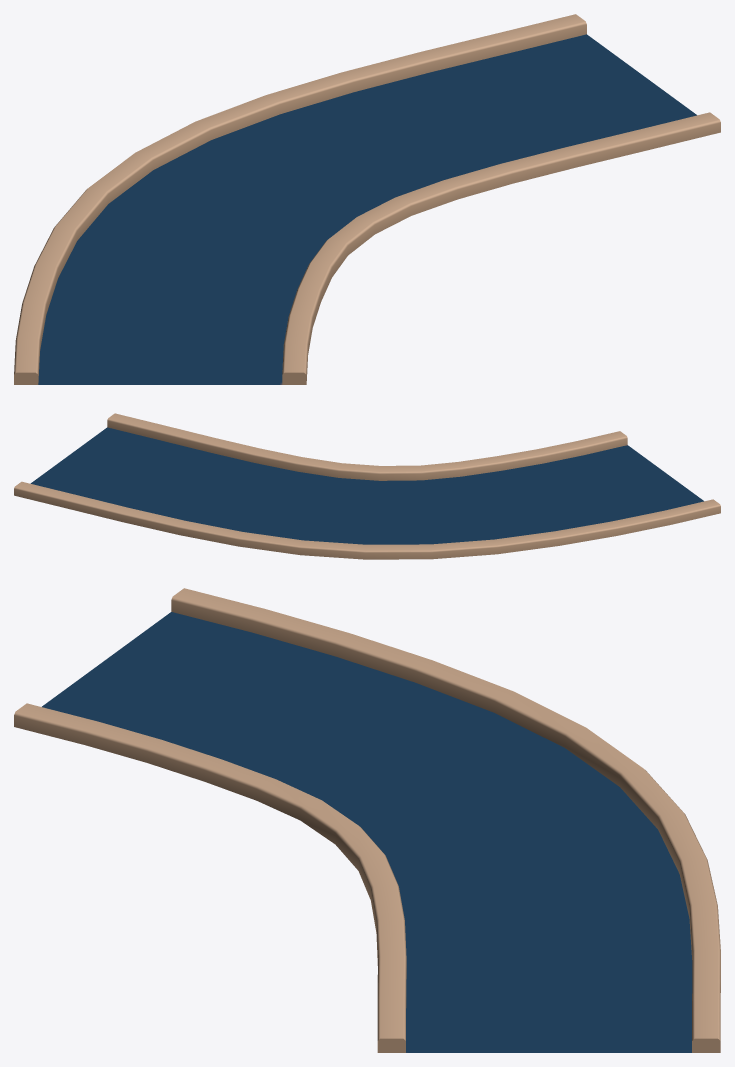
File: PokemonMonster_Landing_Road60do.fbx
3 renders of one model, top to bottom at view 1: azimuth 30°, elevation 25°; view 2: azimuth 150°, elevation 25°; view 3: azimuth 270°, elevation 25°, orthographic. The views are drawn at different scales.
Visible parts, largest first — view 1: Road_60; view 2: Road_60; view 3: Road_60.
Part boxes in pixels (<box>): Road_60: <box>14,14,720,384</box>; Road_60: <box>14,413,720,559</box>; Road_60: <box>14,588,720,1052</box>.
Size of the model in its own units: 1868 by 27.5 by 1236.
1 material, 1 textured.
